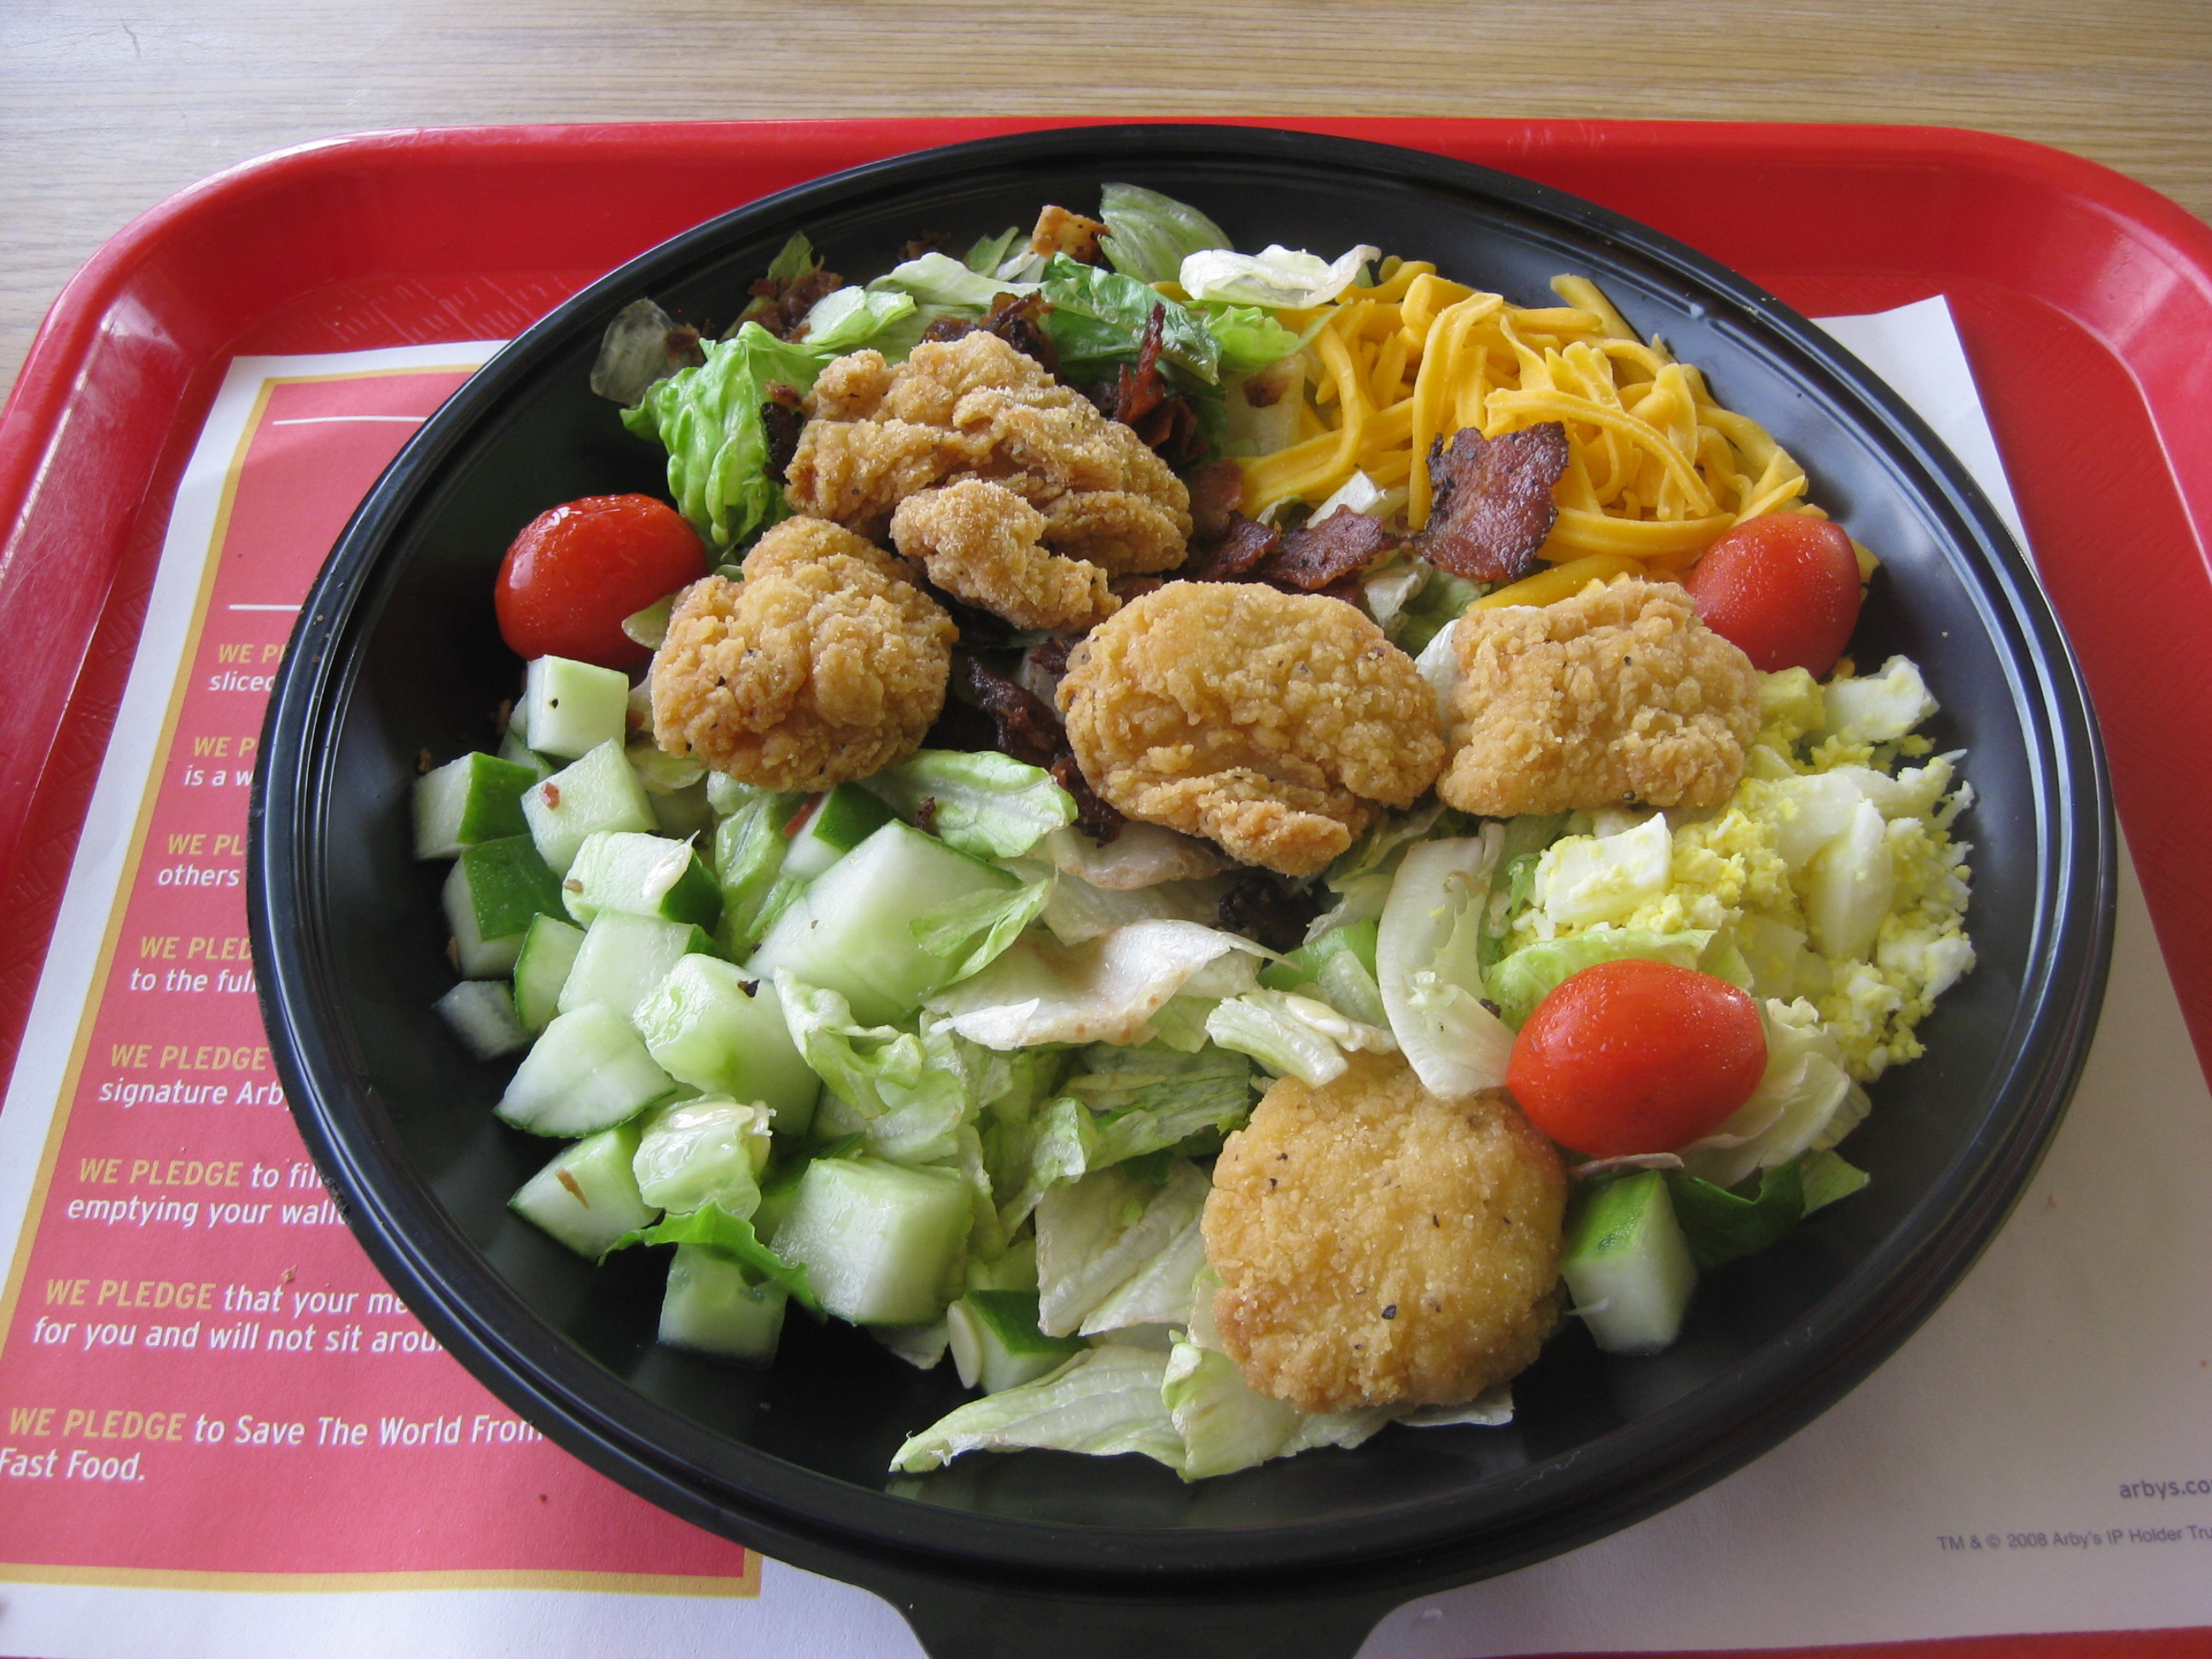salad: (326, 46, 2103, 1542)
